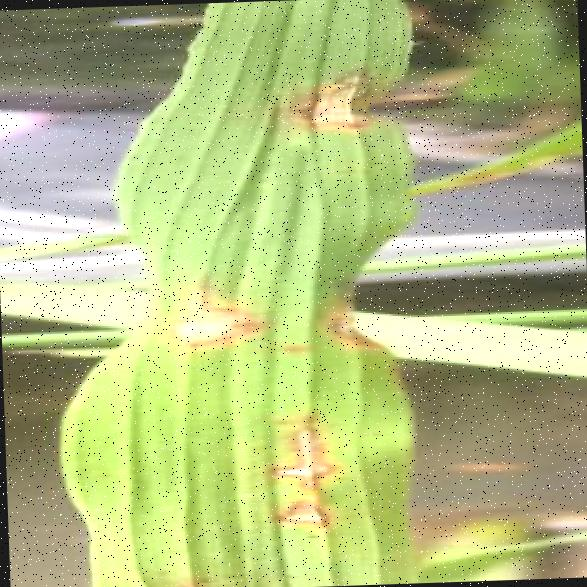Leaf_smut: (256, 40, 426, 159), (250, 390, 358, 536), (142, 259, 280, 373), (310, 267, 400, 377)
